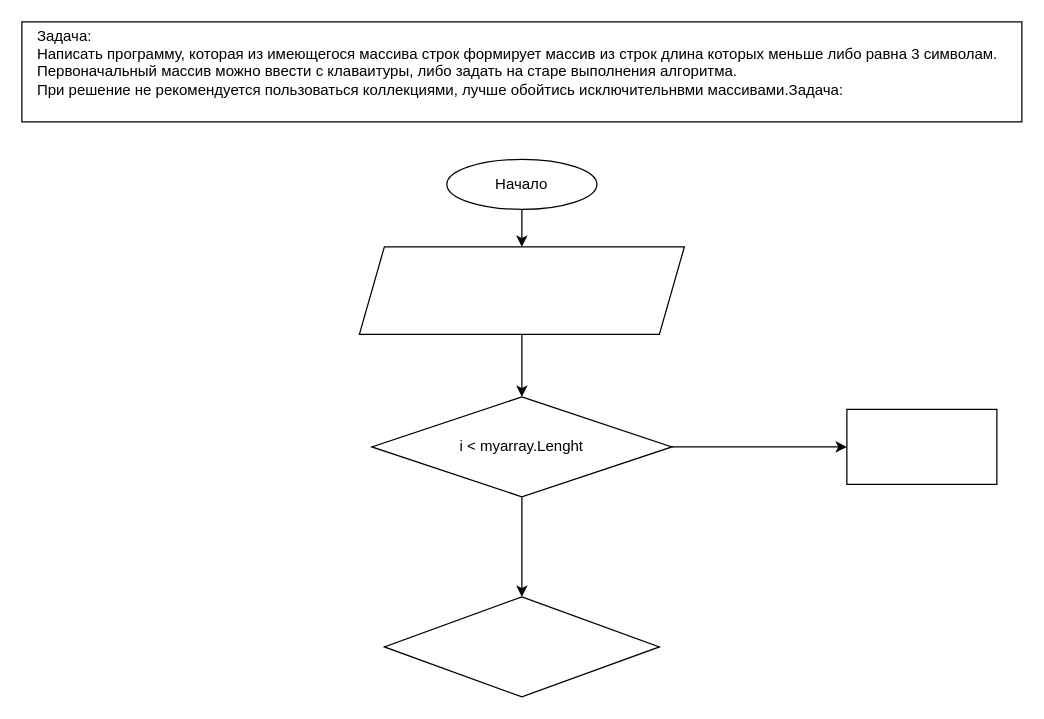
Image size: 1044x719. Some labels were removed from this diagram. The shapes that lost their labels are listed below. From the top down, each one's centre as x and y in pixels, then its label:
At point (521, 290): "[] myarray() [] ar [myarray.Lenght] i = 0 j = 0".
At point (521, 646): "j < ar.Lenght".
